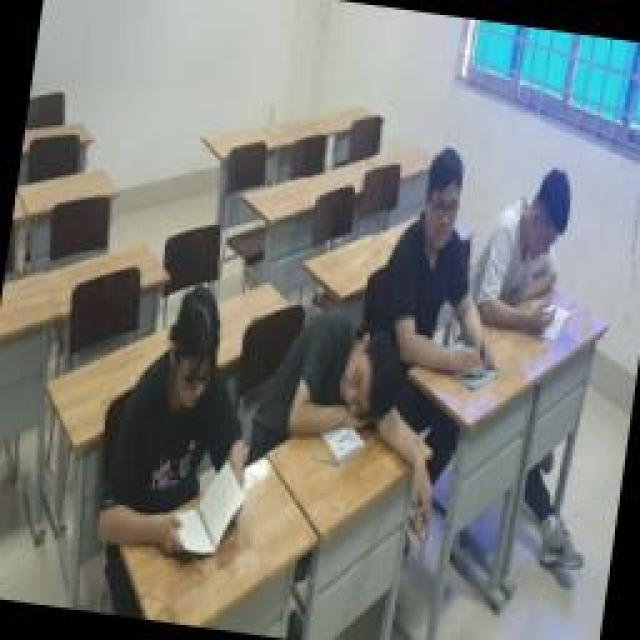sleep: (255, 308, 457, 540)
study: (98, 280, 272, 565), (370, 142, 525, 392), (465, 158, 590, 340)
